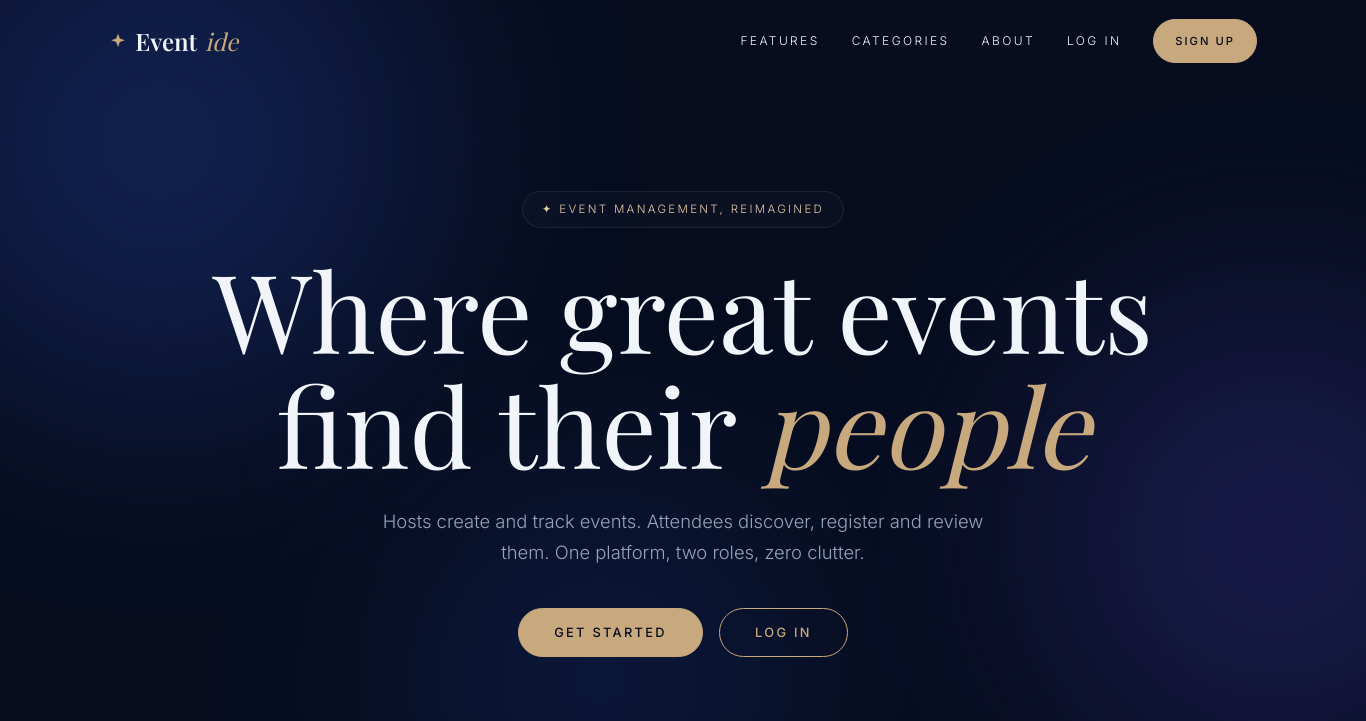
Test: EMS-FR-01 Landing page in the app › the navigation bar links reach signup and login
Step 1. Click the link "Sign up" → x=1205, y=41, box [1154, 19, 1257, 63]
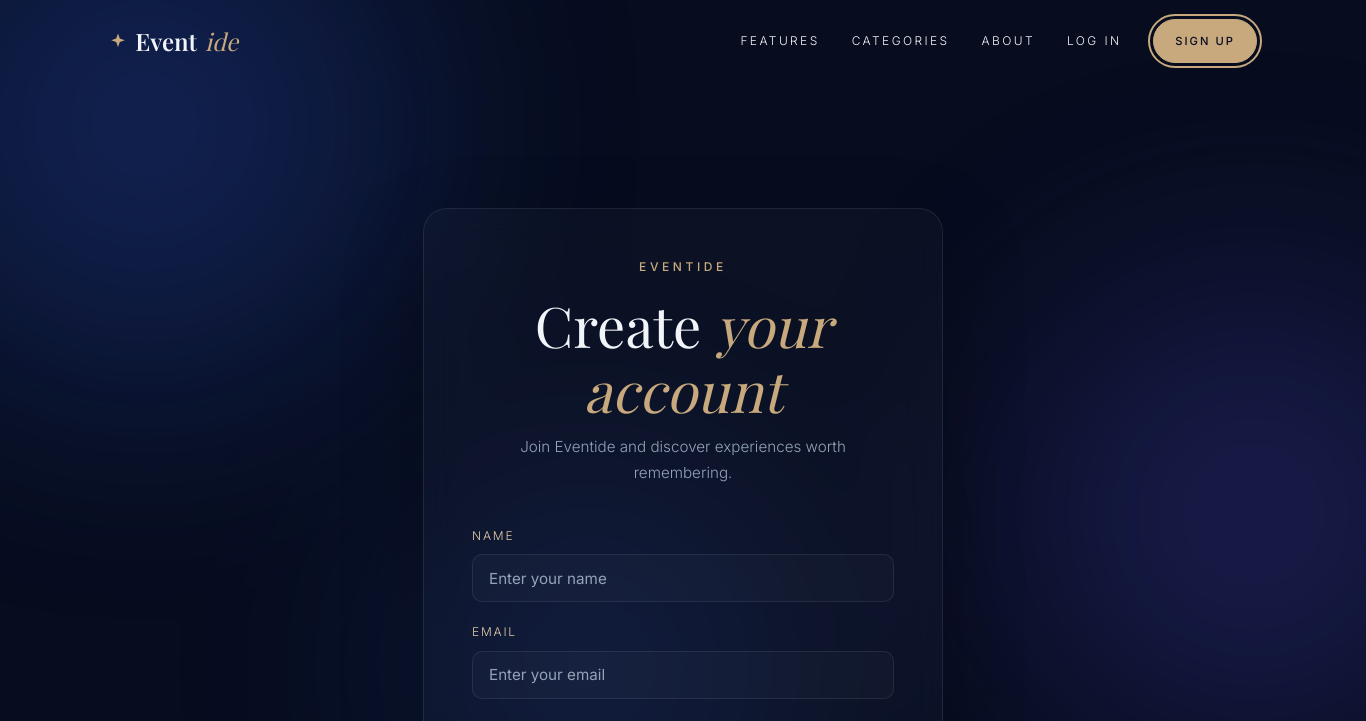
expect the heading "Create your account" is shown: met, box [535, 287, 831, 427]
Step 2. Click the link "Log in" → x=1094, y=41, box [1067, 26, 1122, 56]
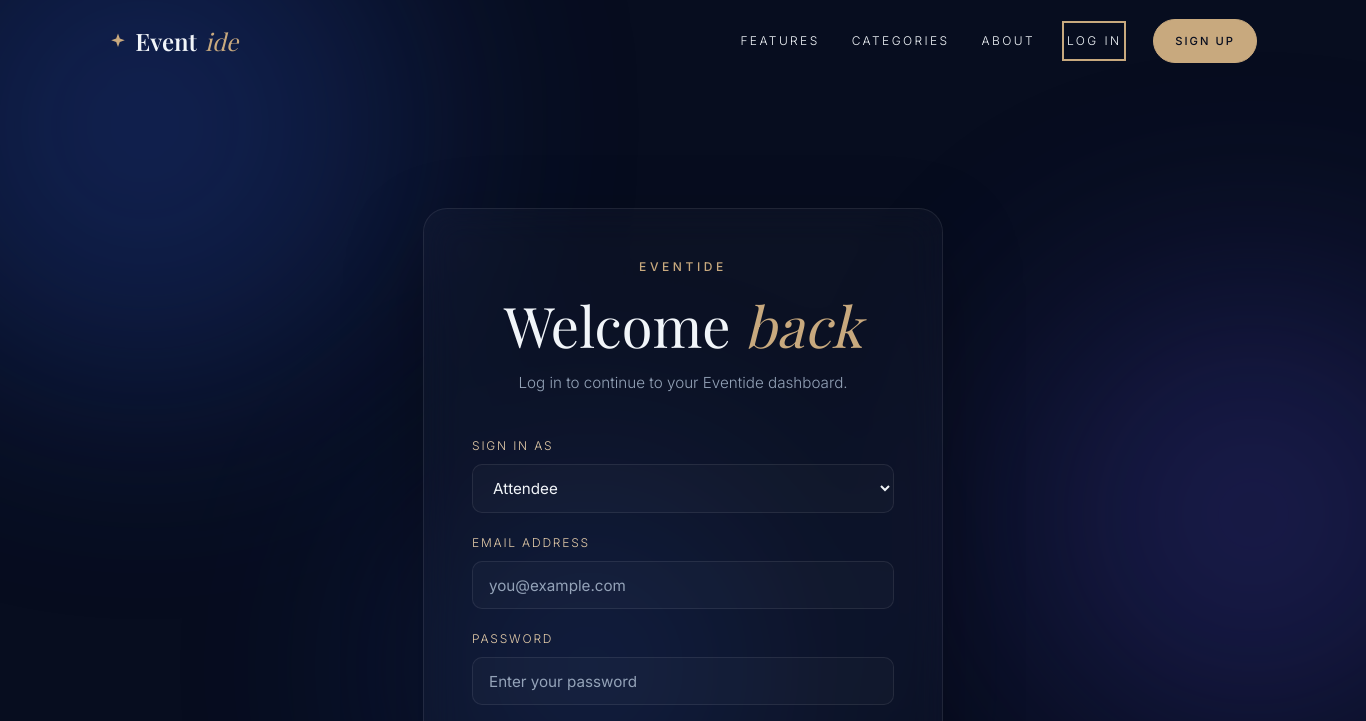
expect the heading "Welcome back" is shown: met, box [504, 287, 862, 362]
